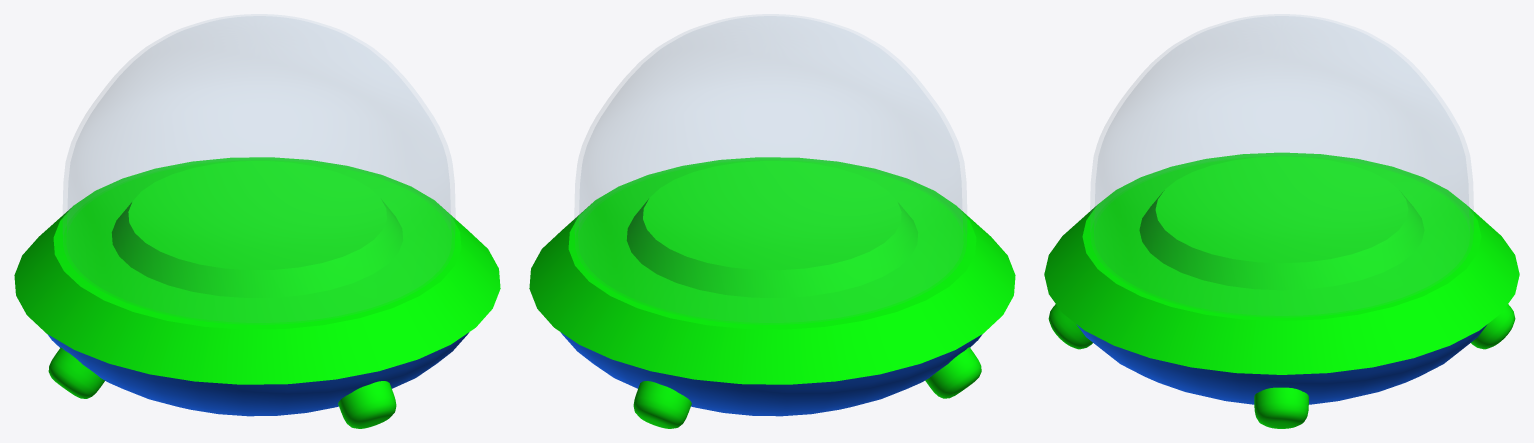
File: ufo 1.glb
3 views of the same model, side by side, from view 1: azimuth 30°, elevation 25°; view 2: azimuth 150°, elevation 25°; view 3: azimuth 270°, elevation 25° (orthographic). The views are drawn at different scales.
Visible parts, largest first — view 1: Cylinder.003, Cylinder, Cylinder.001, Cylinder.004, Cylinder.005; view 2: Cylinder.003, Cylinder, Cylinder.001, Cylinder.004, Cylinder.005; view 3: Cylinder.003, Cylinder, Cylinder.001, Cylinder.005, Cylinder.004.
Part boxes in pixels (x1,y1,x2,y2): Cylinder.003: [63, 14, 454, 322]; Cylinder: [14, 157, 500, 384]; Cylinder.001: [47, 332, 469, 416]; Cylinder.004: [338, 381, 396, 428]; Cylinder.005: [48, 347, 104, 398]; Cylinder.003: [575, 14, 966, 322]; Cylinder: [529, 157, 1015, 384]; Cylinder.001: [560, 332, 982, 416]; Cylinder.004: [633, 381, 691, 428]; Cylinder.005: [925, 347, 981, 398]; Cylinder.003: [1090, 14, 1473, 315]; Cylinder: [1044, 152, 1519, 374]; Cylinder.001: [1076, 324, 1487, 404]; Cylinder.005: [1254, 387, 1308, 428]; Cylinder.004: [1048, 304, 1515, 349].
Bounding box in the file's own units: 0.4812 × 0.3847 × 0.4812.
